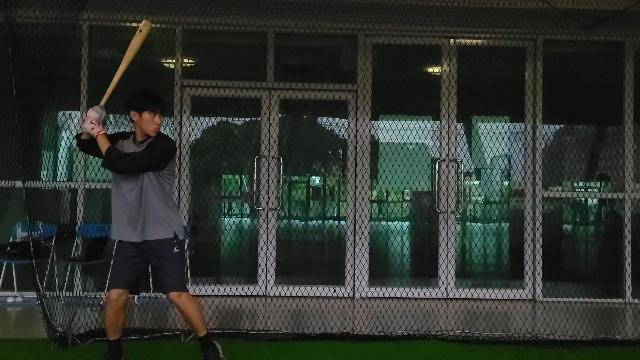baseball bat: (99, 17, 155, 106)
